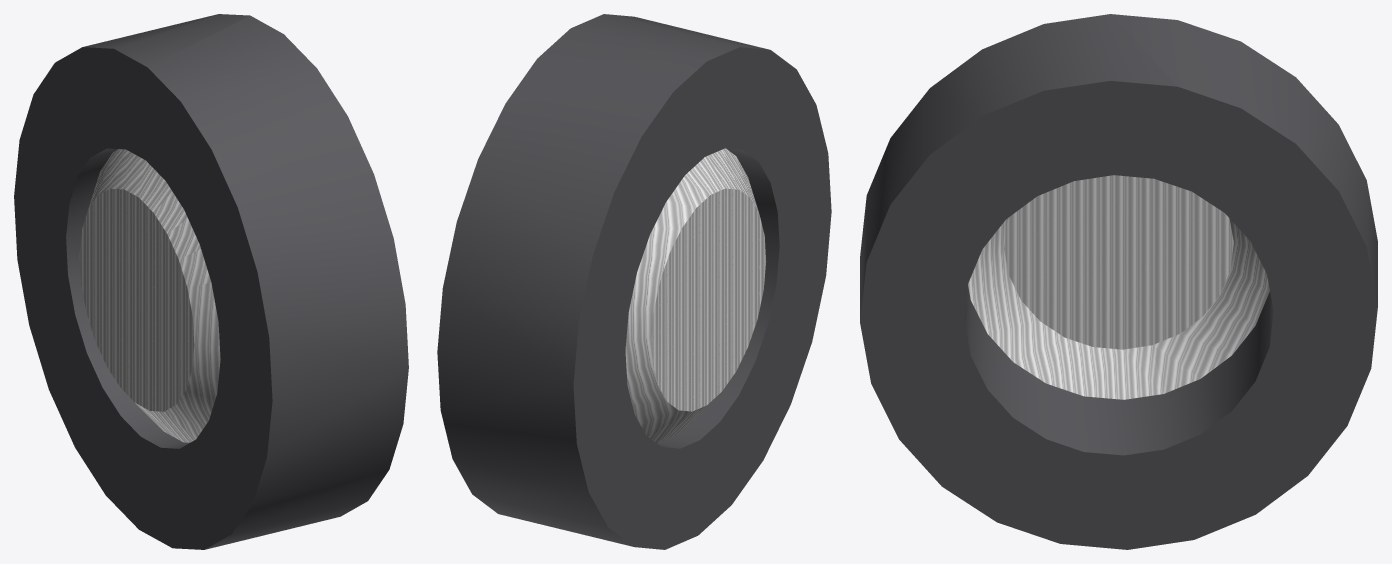
Rendered from llanta1.obj.
The picture shows the model from 3 angles, left to right: view 1: azimuth 30°, elevation 25°; view 2: azimuth 150°, elevation 25°; view 3: azimuth 270°, elevation 25°; orthographic projection.
Visible parts, largest first — view 1: tractor1:object_49; view 2: tractor1:object_49; view 3: tractor1:object_49.
Boxes of the visible parts, box(x1,y1,x2,y2) form: tractor1:object_49: box(14, 14, 408, 549); tractor1:object_49: box(437, 14, 831, 549); tractor1:object_49: box(860, 14, 1377, 549).
Size of the model in its own units: 0.00754 by 0.0237 by 0.0236.
Materials: 2 (2 with a texture image).
